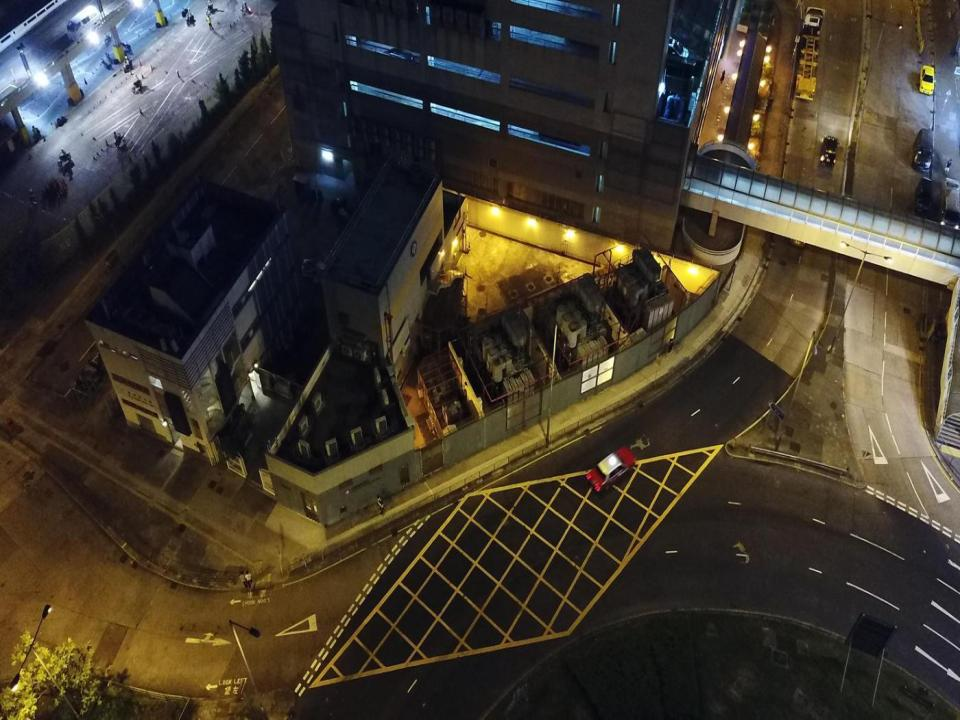car: (586, 445, 637, 490), (790, 204, 812, 246), (820, 135, 839, 168), (919, 65, 935, 96)
truck: (794, 5, 826, 103)
van: (66, 5, 102, 41), (941, 179, 960, 230), (913, 128, 933, 173), (916, 178, 933, 219)
